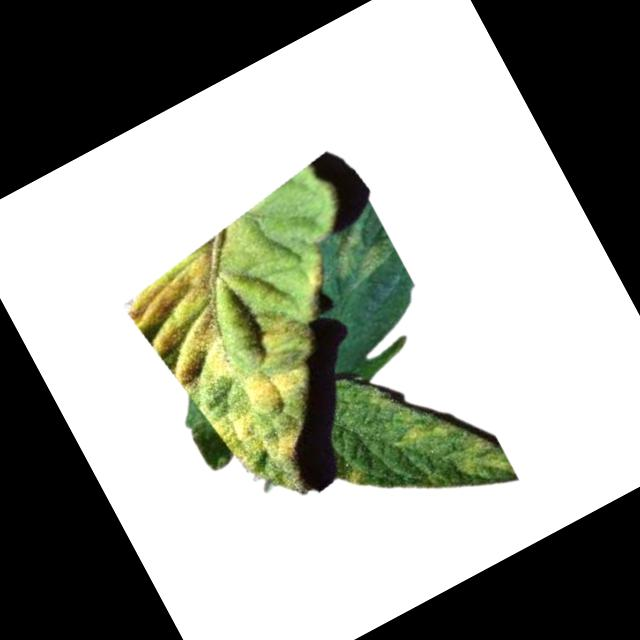Leaf_Mold: (113, 196, 396, 496), (393, 408, 457, 461)
